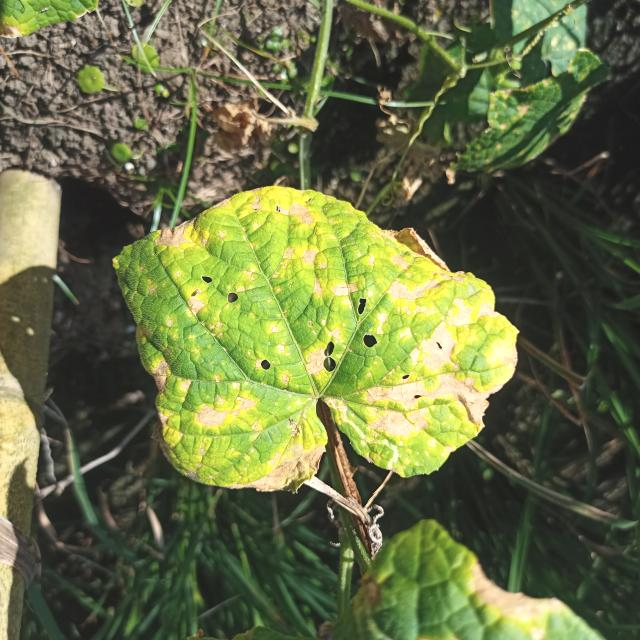disease_cucumber: (135, 190, 521, 496)
